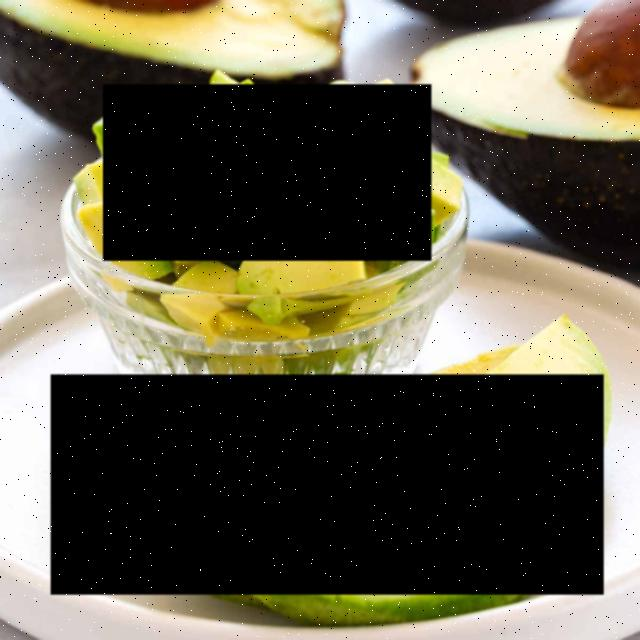Avocado: (51, 375, 604, 595), (103, 84, 432, 261)
